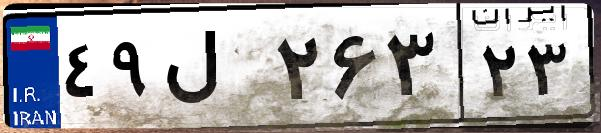2: (270, 28, 330, 110), (475, 38, 525, 113)
3: (385, 28, 445, 110), (525, 38, 570, 115)
4: (57, 26, 110, 100)
6: (330, 28, 385, 110)
9: (110, 28, 158, 98)
ل: (158, 20, 270, 120)
